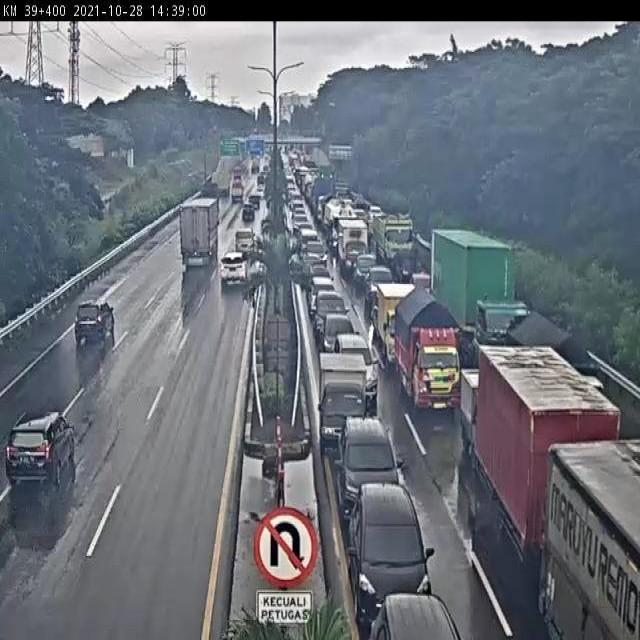big truck: (477, 345, 621, 620), (431, 226, 534, 386), (179, 197, 220, 267)
car: (347, 481, 438, 624), (337, 419, 406, 528), (363, 574, 459, 640), (316, 353, 373, 460), (6, 409, 78, 487), (373, 205, 418, 276), (322, 312, 359, 368), (311, 292, 350, 345), (73, 300, 117, 344), (366, 266, 395, 314), (308, 276, 338, 319), (219, 249, 248, 284), (304, 242, 328, 274), (355, 255, 377, 288), (236, 225, 255, 255), (242, 203, 257, 224)
small truck: (506, 312, 603, 456), (394, 281, 464, 415), (376, 286, 422, 370), (337, 219, 370, 277), (199, 180, 219, 212)
